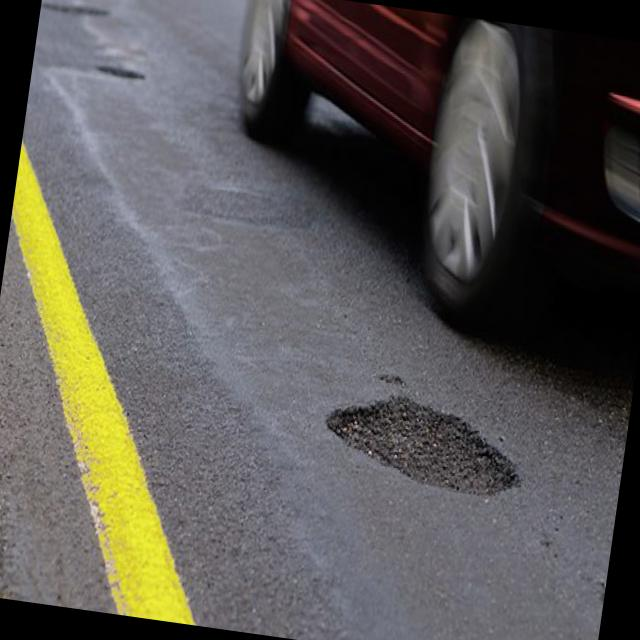Potholes: (314, 370, 559, 538), (91, 45, 168, 114), (40, 0, 114, 21)
